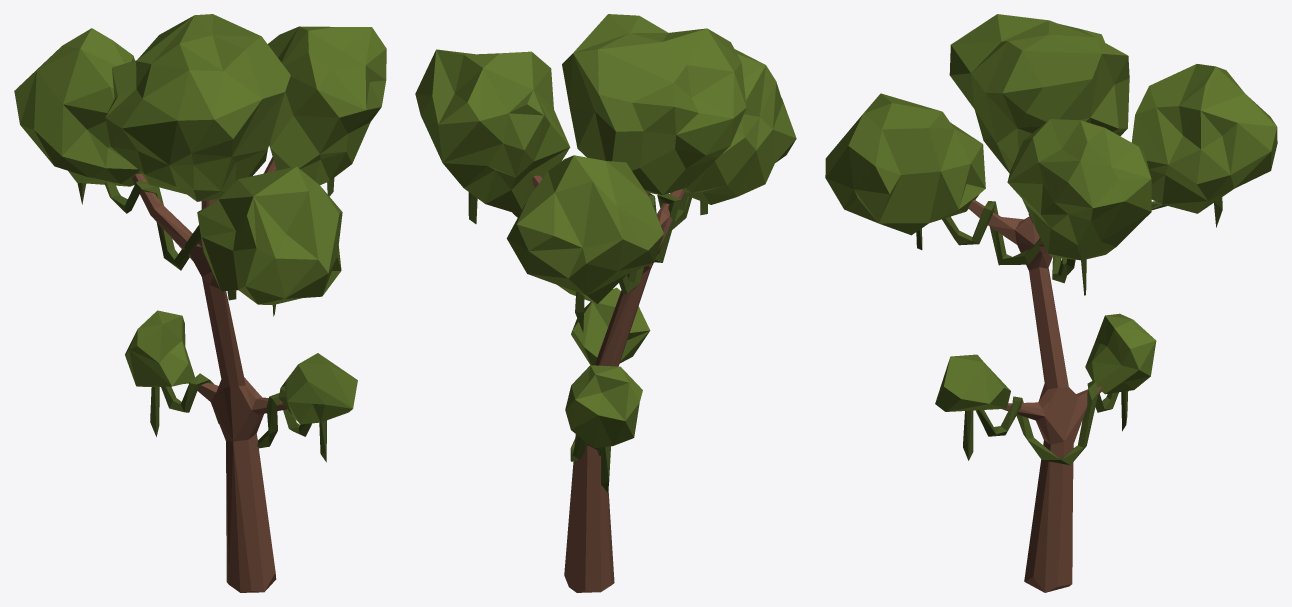
Rendered from TreeJungleSmall.fbx.
The picture shows the model from 3 angles, left to right: view 1: azimuth 30°, elevation 25°; view 2: azimuth 150°, elevation 25°; view 3: azimuth 270°, elevation 25°; orthographic projection. The views are drawn at different scales.
Parts seen in each view (by area): view 1: Cube.001, MediumJungleTree, Vert.001; view 2: Cube.001, MediumJungleTree, Vert.001; view 3: Cube.001, MediumJungleTree, Vert.001.
Part boxes in pixels (x1,y1,x2,y2): Cube.001: (14, 14, 386, 424); MediumJungleTree: (132, 157, 286, 592); Vert.001: (77, 178, 334, 462); Cube.001: (415, 14, 796, 447); MediumJungleTree: (532, 175, 685, 592); Vert.001: (468, 192, 707, 492); Cube.001: (825, 14, 1277, 411); MediumJungleTree: (968, 200, 1101, 592); Vert.001: (916, 197, 1222, 465).
Bounding box in the file's own units: 550 × 993 × 764.
